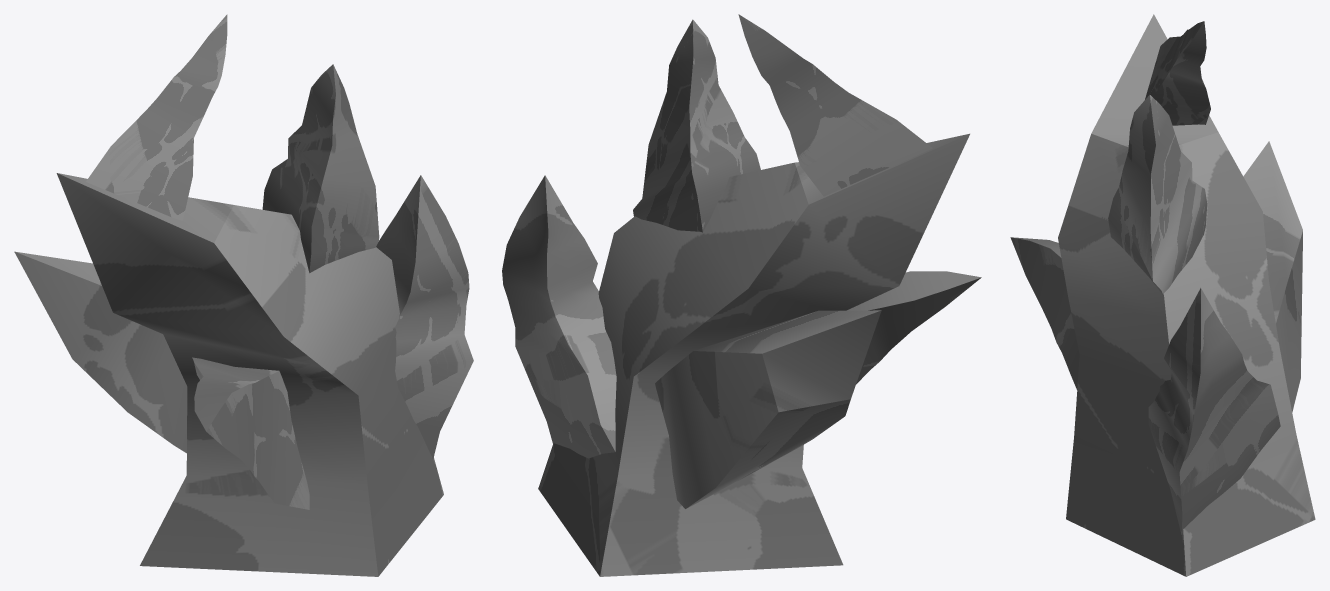
The model's file is CTS_E_PalmDarkRockD.fbx.
3 views of the same model, side by side, from view 1: azimuth 30°, elevation 25°; view 2: azimuth 150°, elevation 25°; view 3: azimuth 270°, elevation 25° (orthographic). The views are drawn at different scales.
Parts seen in each view (by area): view 1: CTS_E_PalmDarkRockD; view 2: CTS_E_PalmDarkRockD; view 3: CTS_E_PalmDarkRockD.
Part boxes in pixels (x1,y1,x2,y2): CTS_E_PalmDarkRockD: [14, 14, 473, 576]; CTS_E_PalmDarkRockD: [502, 14, 981, 576]; CTS_E_PalmDarkRockD: [1010, 14, 1315, 576].
Bounding box in the file's own units: 1247 × 1434 × 850.
